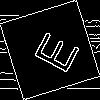E: (25, 25, 81, 75)
